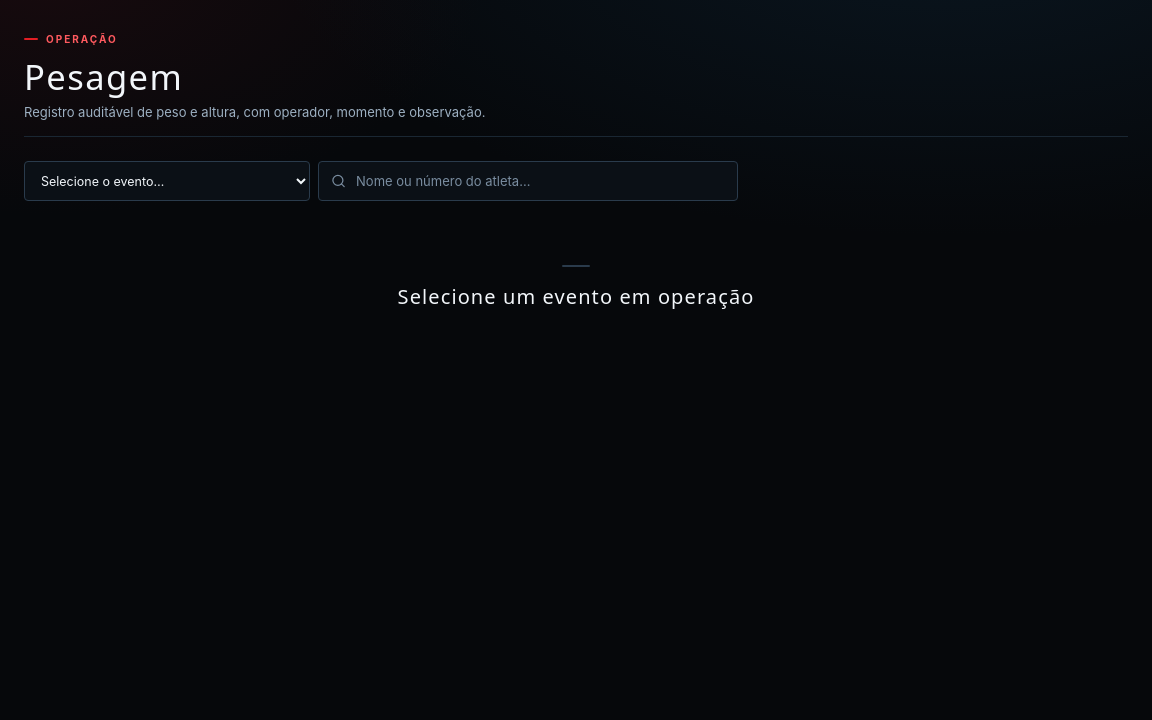
Test: pesagem › o erro fica À VISTA no diálogo, com o que fazer — e não só num toast
Step 1. Select "Muscle Contest Curitiba — Em operação" in the dropdown named "Selecionar evento" → x=167, y=181, box [24,161,310,201]
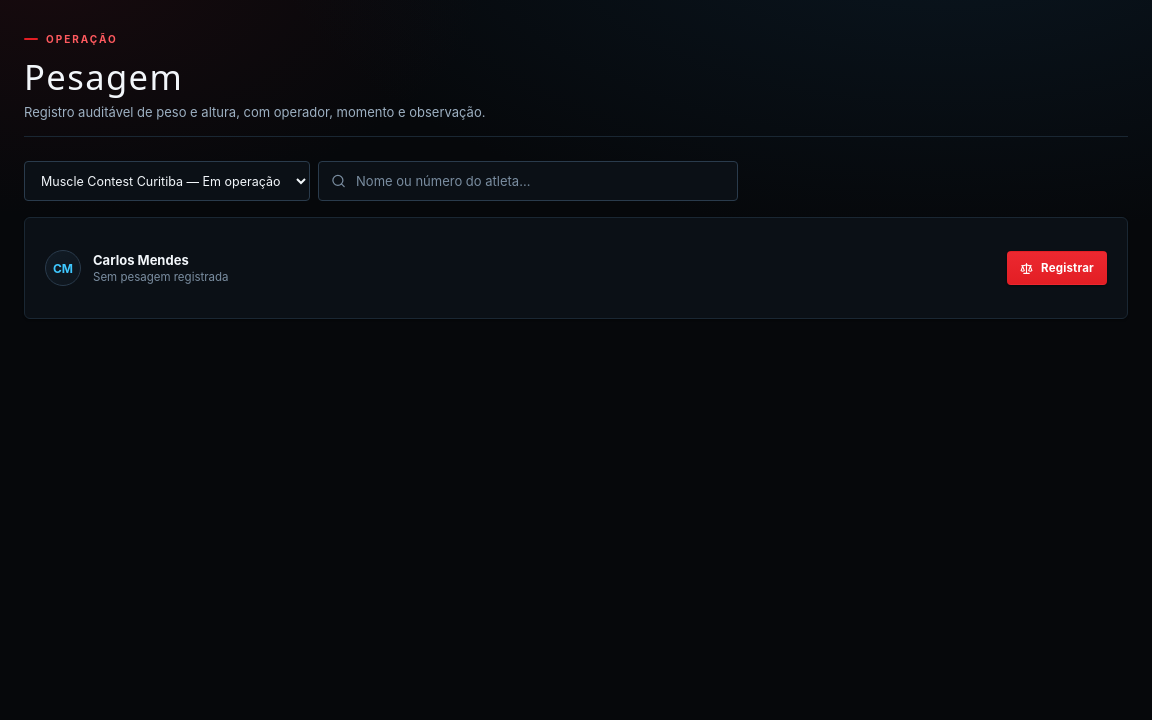
Step 2. Click the button "Registrar" → x=1057, y=268, box [1007,251,1107,285]
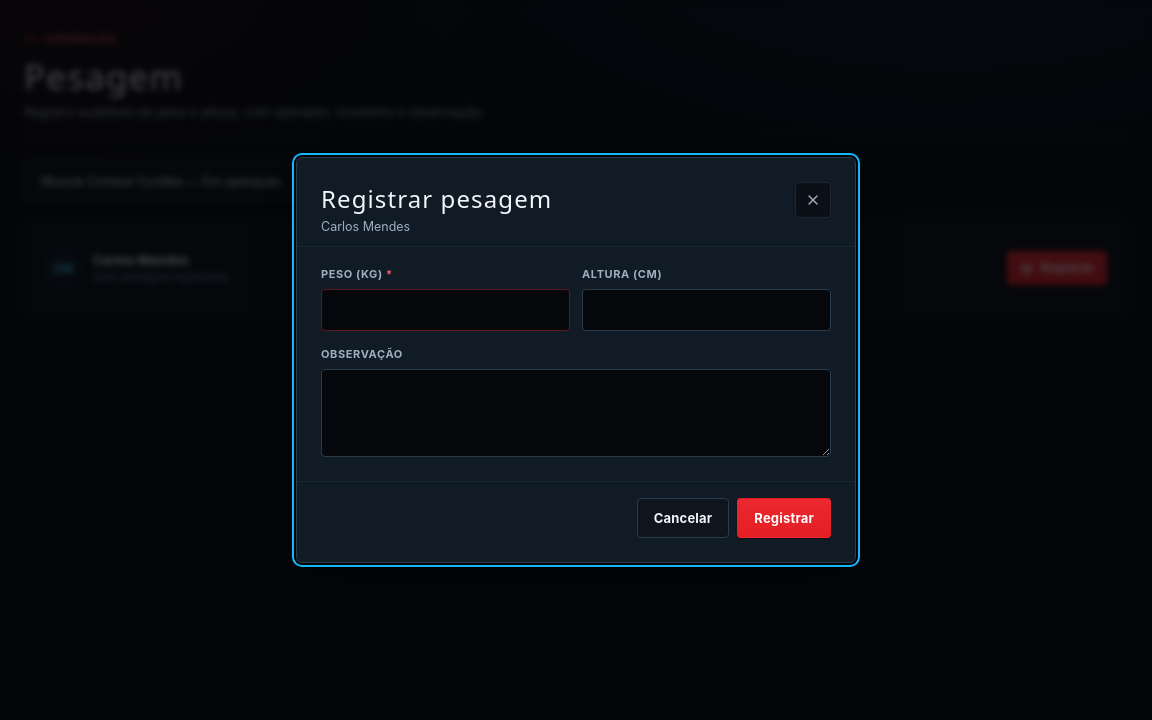
Step 3. Type "82.4" into the number field labelled "Peso (kg) *" → x=446, y=310, box [321,289,570,331]
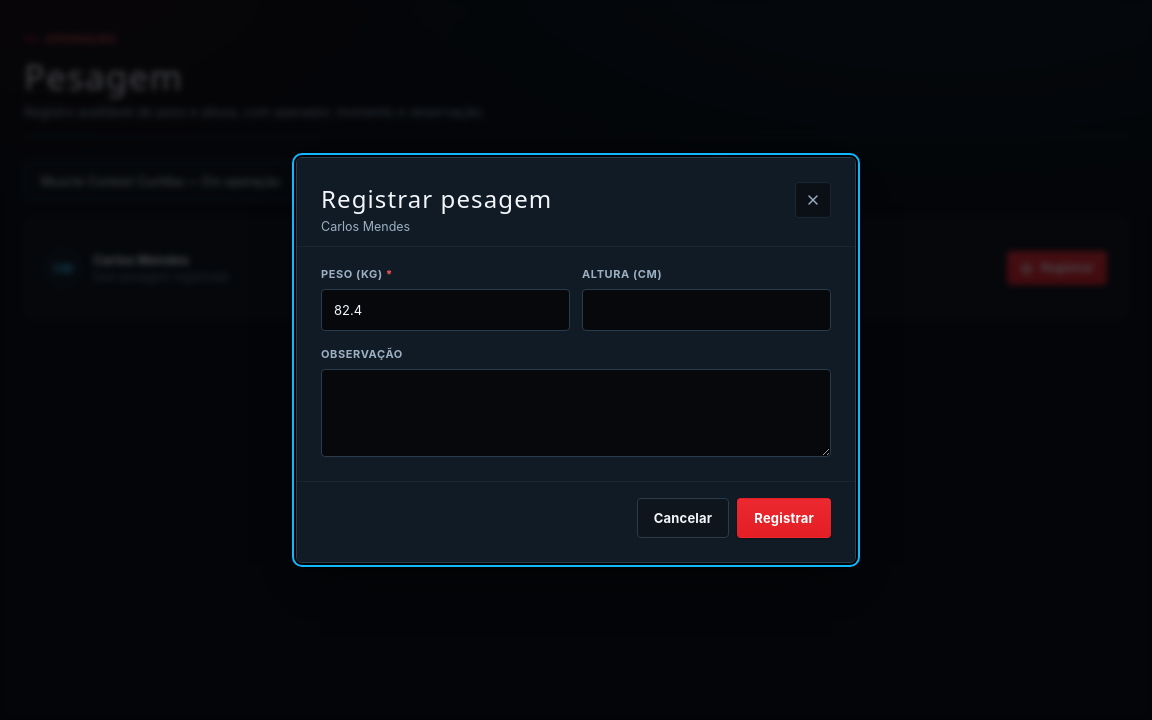
Step 4. Click the button "Registrar" → x=784, y=518, box [737,498,831,538]
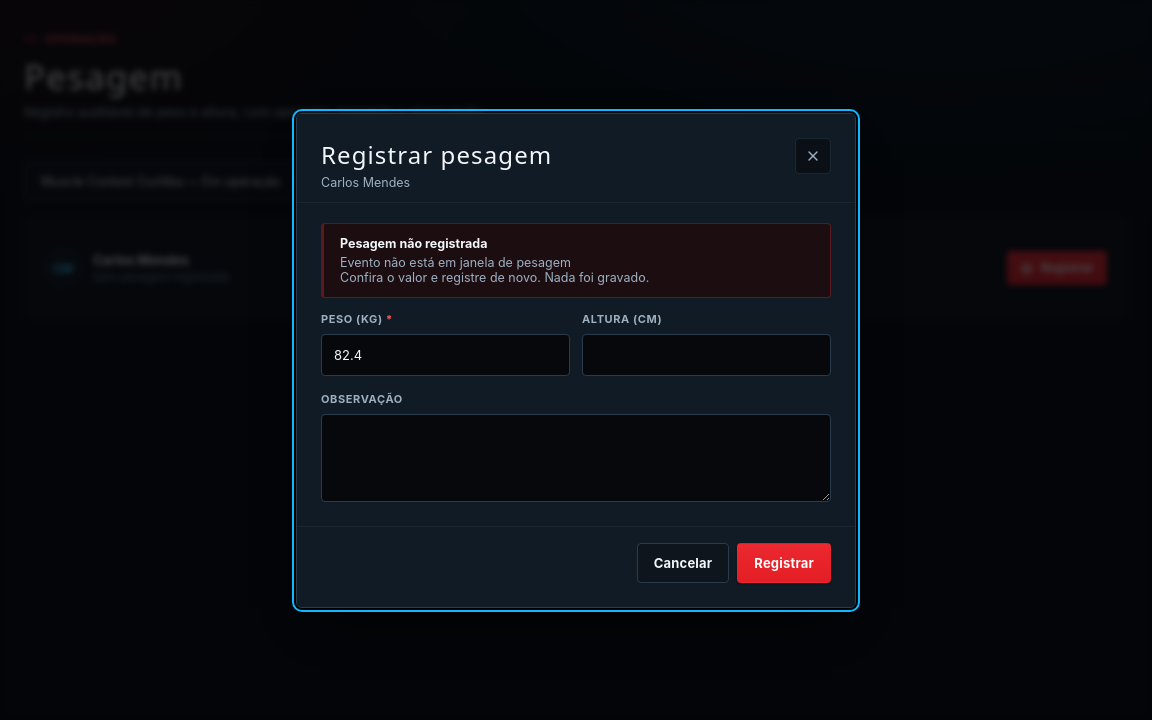
Now the text "Evento não está em janela de pesagem" is shown, box [340,254,571,270]
Now the text "Confira o valor e registre de novo. Nada foi gravado." is shown, box [340,270,649,284]
